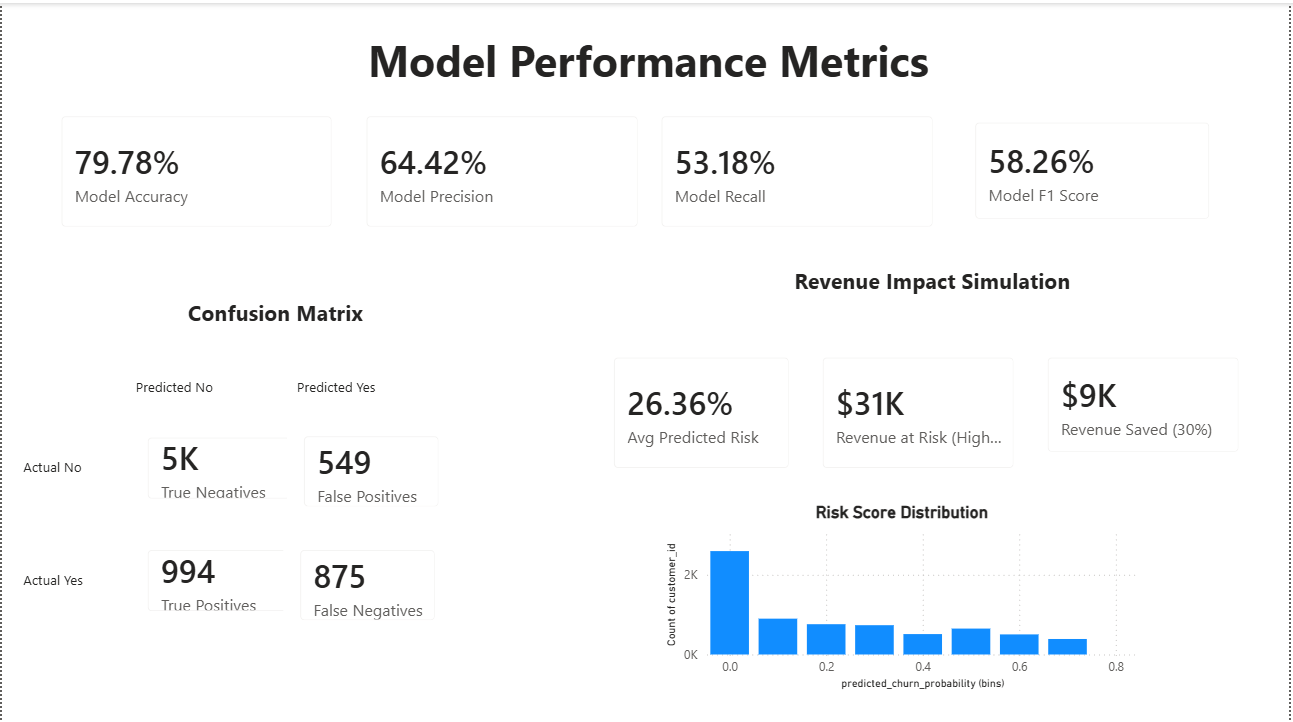

This screenshot's page, from the dashboard's own definition file:
{"tool":"powerbi","page":{"name":"AI Prediction & Revenue Impact1","canvas":[1280,720],"ordinal":1},"visuals":[{"type":"textbox","box":[42.1,21.9,1202,87.4],"z":0},{"type":"cardVisual","title":"Model Accuracy","fields":{"Data":["saas_ai_dashboard_ready.Model Accuracy"]},"box":[42.3,95.8,303.5,144.3],"z":1000},{"type":"cardVisual","title":"Model Accuracy","fields":{"Data":["saas_ai_dashboard_ready.Model Precision"]},"box":[345.8,95.8,304.8,144.3],"z":2000},{"type":"cardVisual","title":"Model Accuracy","fields":{"Data":["saas_ai_dashboard_ready.Model Recall"]},"box":[640,96,304,144],"z":3000},{"type":"cardVisual","title":"Model Accuracy","fields":{"Data":["saas_ai_dashboard_ready.Model F1 Score"]},"box":[951.6,102,267.5,130.6],"z":4000},{"type":"textbox","box":[144,288,256,48],"z":5000},{"type":"cardVisual","fields":{"Data":["saas_ai_dashboard_ready.True Negatives"]},"box":[128,416,176,96],"z":6000},{"type":"cardVisual","fields":{"Data":["saas_ai_dashboard_ready.True Positives"]},"box":[128,528,176,96],"z":7000},{"type":"cardVisual","fields":{"Data":["saas_ai_dashboard_ready.False Negatives"]},"box":[280,528,168,104],"z":8000},{"type":"cardVisual","fields":{"Data":["saas_ai_dashboard_ready.False Positives"]},"box":[284,414.3,168,104],"z":9000},{"type":"textbox","box":[16,560,96,32],"z":10000},{"type":"textbox","box":[16,448,112,32],"z":11000},{"type":"textbox","box":[128,368,112,32],"z":12000},{"type":"textbox","box":[288,368,96,32],"z":13000},{"type":"cardVisual","fields":{"Data":["saas_ai_dashboard_ready.Avg Predicted Risk"]},"box":[592,336,208,144],"z":14000},{"type":"textbox","box":[784,256,336,48],"z":15000},{"type":"cardVisual","fields":{"Data":["saas_ai_dashboard_ready.Revenue Saved (30%)"]},"box":[1024,336,224,128],"z":16000},{"type":"cardVisual","fields":{"Data":["saas_ai_dashboard_ready.Revenue at Risk"]},"box":[800,336,224,144],"z":17000},{"type":"columnChart","title":"Risk Score Distribution","fields":{"Category":["saas_ai_dashboard_ready.predicted_churn_probability (bins)"],"Y":["CountNonNull(saas_ai_dashboard_ready.customer_id)"]},"box":[656,496,480,192],"z":18000}]}

Visuals, with their boxes in screenshot pixels (x1, y1, x2, y2), scaled from the page's 1280x720 canvas onto the 1293x722 screenshot:
textbox: [left=43, top=22, right=1257, bottom=110]
"Model Accuracy" cardVisual: [left=43, top=96, right=349, bottom=241]
"Model Accuracy" cardVisual: [left=349, top=96, right=657, bottom=241]
"Model Accuracy" cardVisual: [left=646, top=96, right=954, bottom=241]
"Model Accuracy" cardVisual: [left=961, top=102, right=1231, bottom=233]
textbox: [left=145, top=289, right=404, bottom=337]
cardVisual - saas_ai_dashboard_ready.True Negatives: [left=129, top=417, right=307, bottom=513]
cardVisual - saas_ai_dashboard_ready.True Positives: [left=129, top=529, right=307, bottom=626]
cardVisual - saas_ai_dashboard_ready.False Negatives: [left=283, top=529, right=453, bottom=634]
cardVisual - saas_ai_dashboard_ready.False Positives: [left=287, top=415, right=457, bottom=520]
textbox: [left=16, top=562, right=113, bottom=594]
textbox: [left=16, top=449, right=129, bottom=481]
textbox: [left=129, top=369, right=242, bottom=401]
textbox: [left=291, top=369, right=388, bottom=401]
cardVisual - saas_ai_dashboard_ready.Avg Predicted Risk: [left=598, top=337, right=808, bottom=481]
textbox: [left=792, top=257, right=1131, bottom=305]
cardVisual - saas_ai_dashboard_ready.Revenue Saved (30%): [left=1034, top=337, right=1261, bottom=465]
cardVisual - saas_ai_dashboard_ready.Revenue at Risk: [left=808, top=337, right=1034, bottom=481]
"Risk Score Distribution" columnChart: [left=663, top=497, right=1148, bottom=690]
